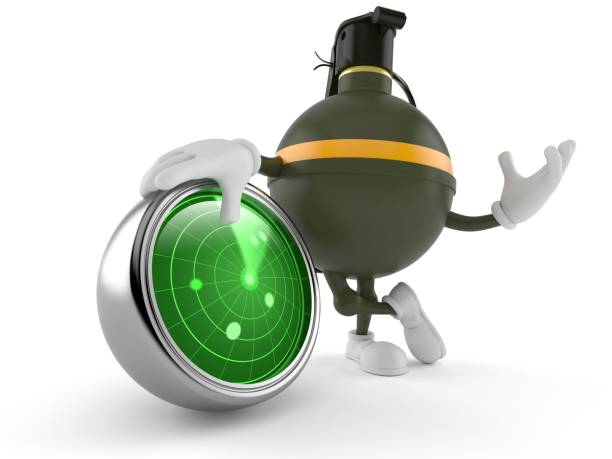e1: (265, 9, 457, 276)
